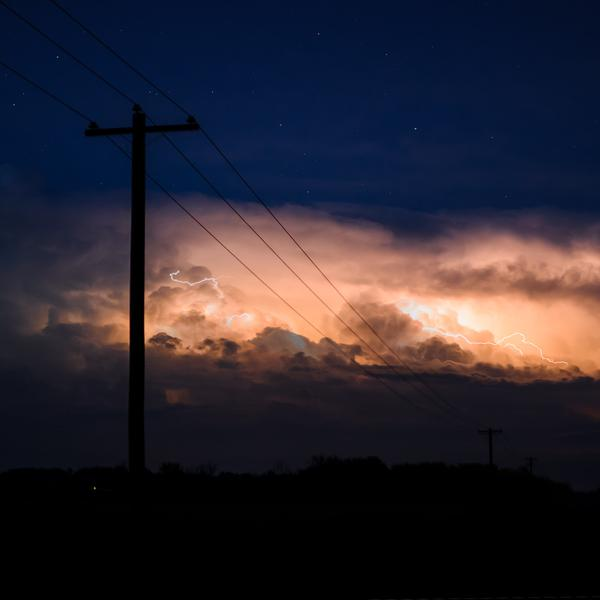utility_pole: (73, 98, 204, 202)
